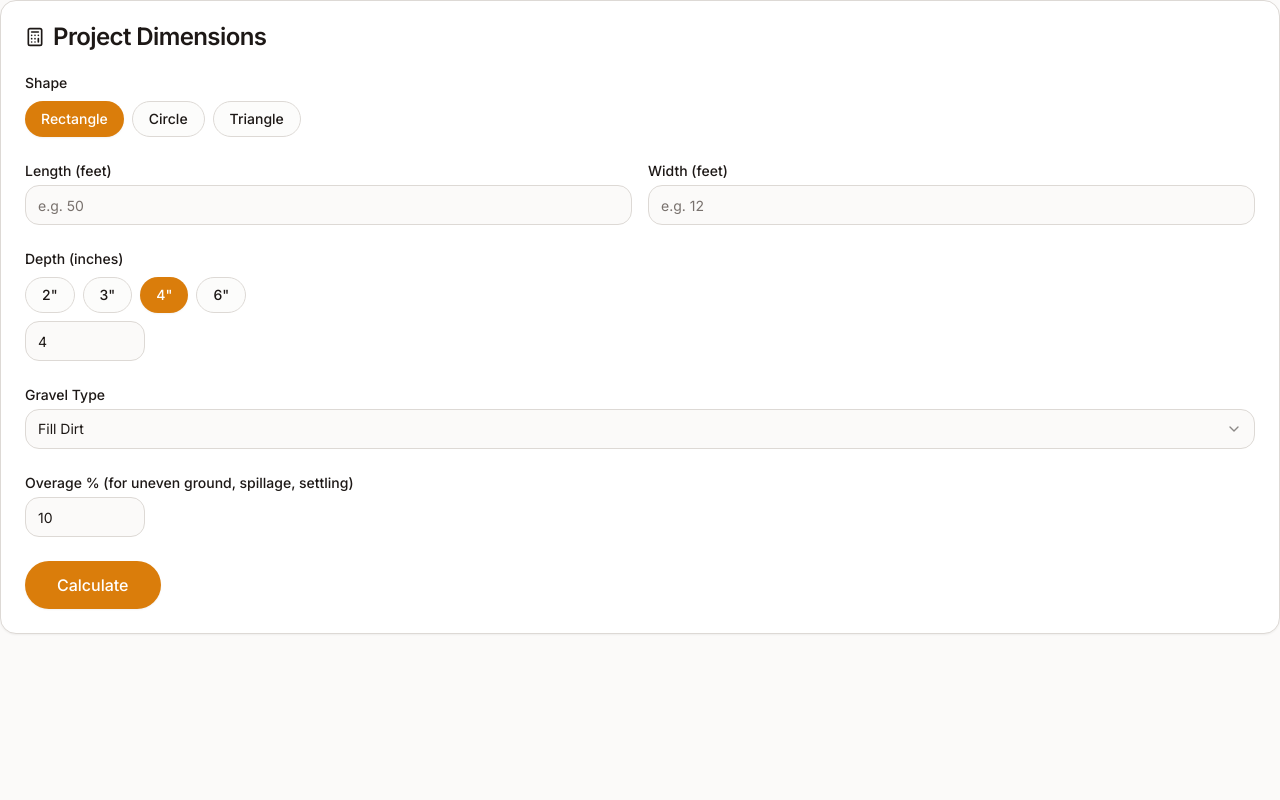
it: GravelCalculator › shape selection › should switch to triangle shape and show base and height inputs
This screenshot has width=1280, height=800.
Step 1. Click the button "triangle" → (257, 119), box [213, 101, 301, 137]
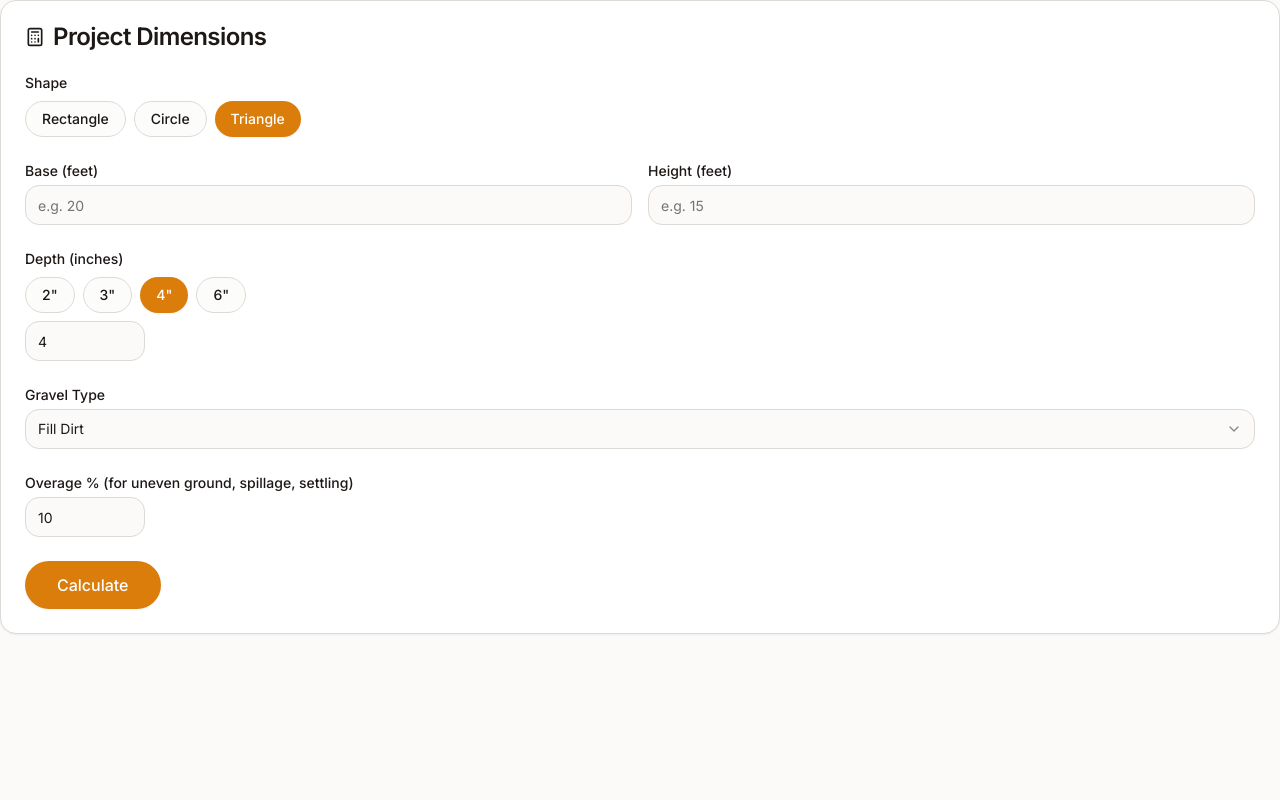
Expected: the field with placeholder "e.g. 50" is not shown
Now the number field with placeholder "e.g. 20" is shown, box [25, 185, 632, 225]
Now the number field with placeholder "e.g. 15" is shown, box [648, 185, 1255, 225]
